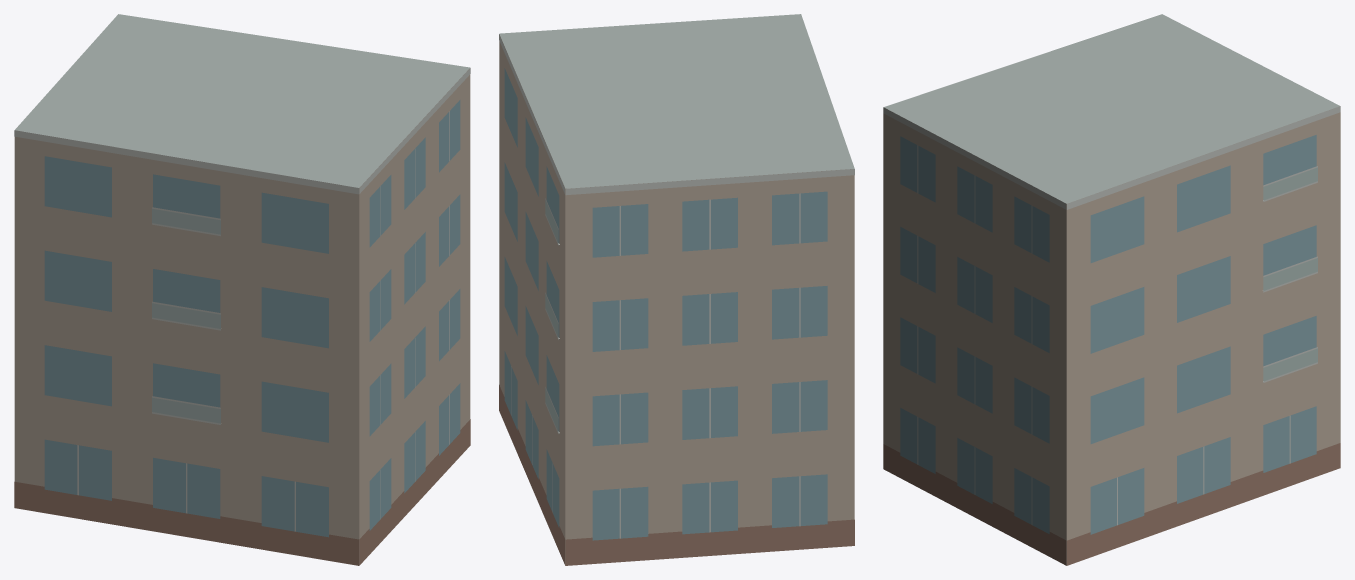
File: survey-upis-32681255.glb
The picture shows the model from 3 angles, left to right: view 1: azimuth 30°, elevation 25°; view 2: azimuth 150°, elevation 25°; view 3: azimuth 270°, elevation 25°; orthographic projection. The views are drawn at different scales.
Visible parts, largest first — view 1: survey-upis-32681255.tmp; view 2: survey-upis-32681255.tmp; view 3: survey-upis-32681255.tmp.
Boxes of the visible parts, <box> form: survey-upis-32681255.tmp: <box>14,14,470,565</box>; survey-upis-32681255.tmp: <box>499,14,854,565</box>; survey-upis-32681255.tmp: <box>883,14,1340,565</box>.
Bounding box in the file's own units: 16.15 × 14.35 × 16.43.
